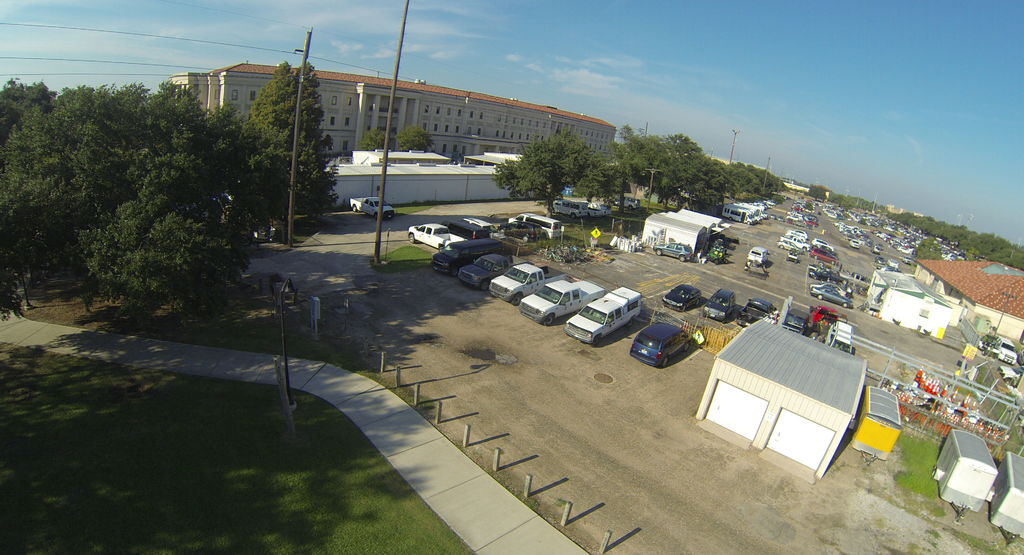Car: (624, 321, 700, 376), (697, 287, 742, 327), (344, 187, 385, 222), (733, 302, 772, 331), (659, 281, 693, 310), (809, 285, 851, 308), (808, 264, 843, 287)
